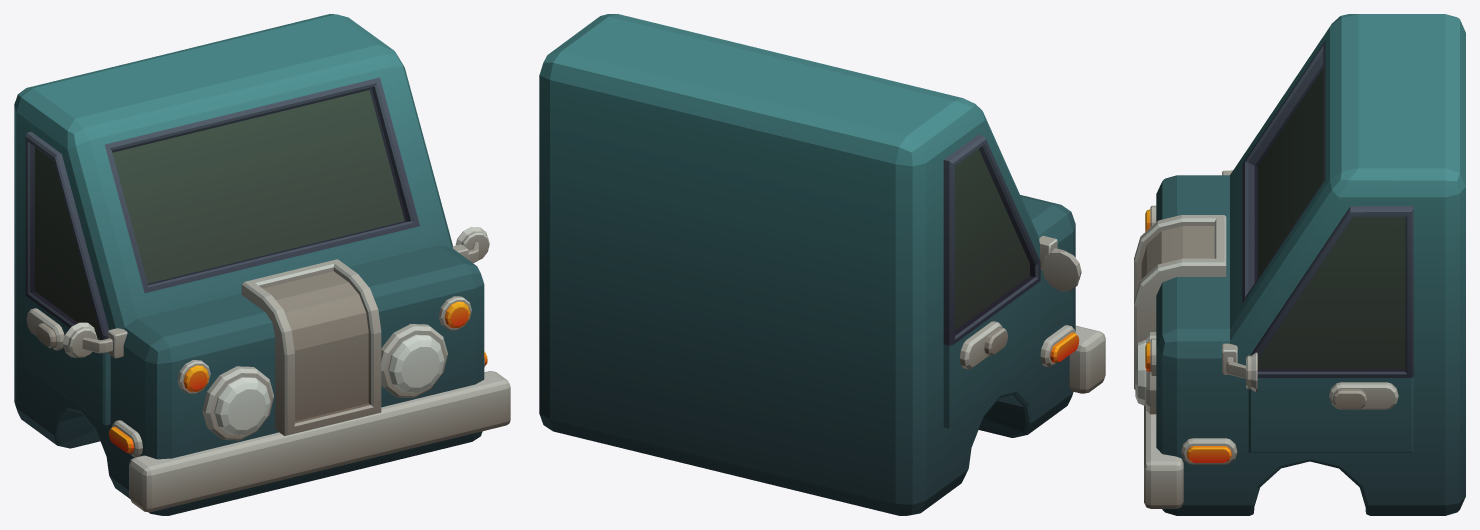
Rendered from sp_build_prop_carfront_02.fbx.
The picture shows the model from 3 angles, left to right: view 1: azimuth 30°, elevation 25°; view 2: azimuth 150°, elevation 25°; view 3: azimuth 270°, elevation 25°; orthographic projection. The views are drawn at different scales.
Parts seen in each view (by area): view 1: build_prop_carfront_02; view 2: build_prop_carfront_02; view 3: build_prop_carfront_02.
Part boxes in pixels (x1,y1,x2,y2): build_prop_carfront_02: (14, 14, 510, 515); build_prop_carfront_02: (539, 14, 1105, 515); build_prop_carfront_02: (1134, 14, 1465, 515).
Size of the model in its own units: 283 by 212 by 183.
